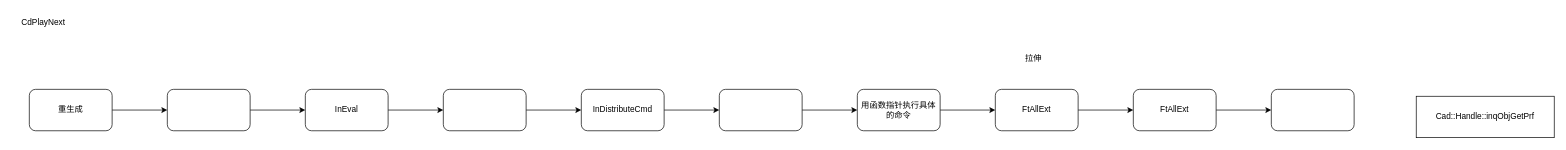
Some shapes in this 1566 by 150 pixel diagram are drawn without their labels. The shapes that lost their labels are listed below. From the top down, each one's centre as x and y in pixels, then its label:
point (208, 110): CdFtrRegenUtil
point (484, 110): InEvalCmd
point (760, 110): InFeatureOp
point (1312, 110): FtBaseExtInqAddFtr
